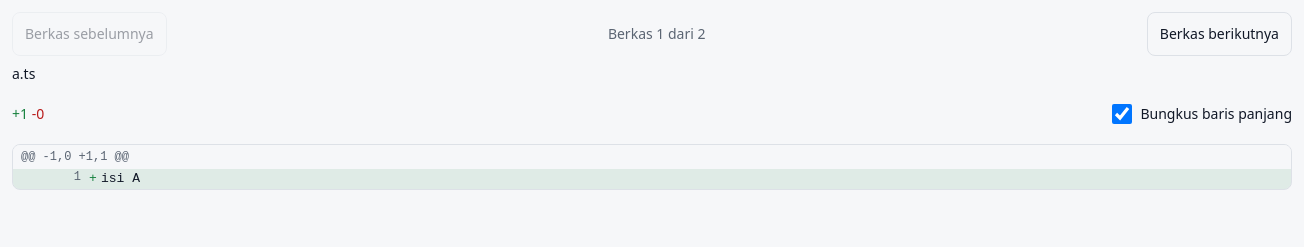
Scenario: DiffViewer: navigasi › antar berkas: berkas lain, hunk-nya sendiri, dan peringatan sensitif milik berkas itu
Expected: the text "Berkas 1 dari 2" is shown, top-left (608, 24), bottom-right (706, 44)
Expected: the text "isi A" is shown, top-left (101, 169), bottom-right (140, 189)
Click the button "Berkas berikutnya": (1219, 34) top-left (1147, 12), bottom-right (1292, 56)
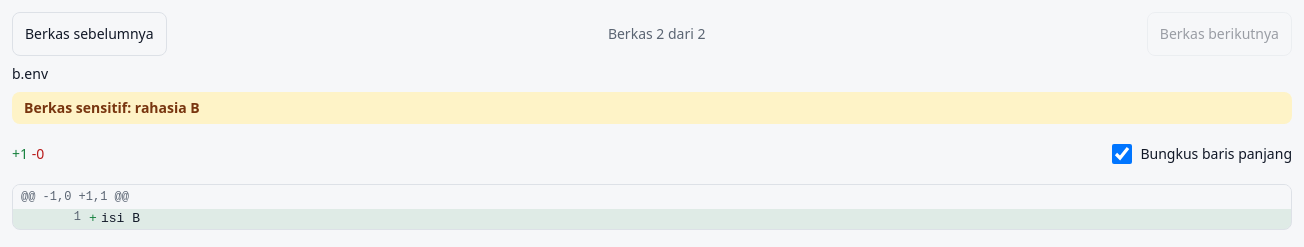
Expected: the text "Berkas 2 dari 2" is shown, top-left (608, 24), bottom-right (706, 44)
Expected: the text "isi B" is shown, top-left (101, 209), bottom-right (140, 229)
Expected: the text "isi A" is gone
